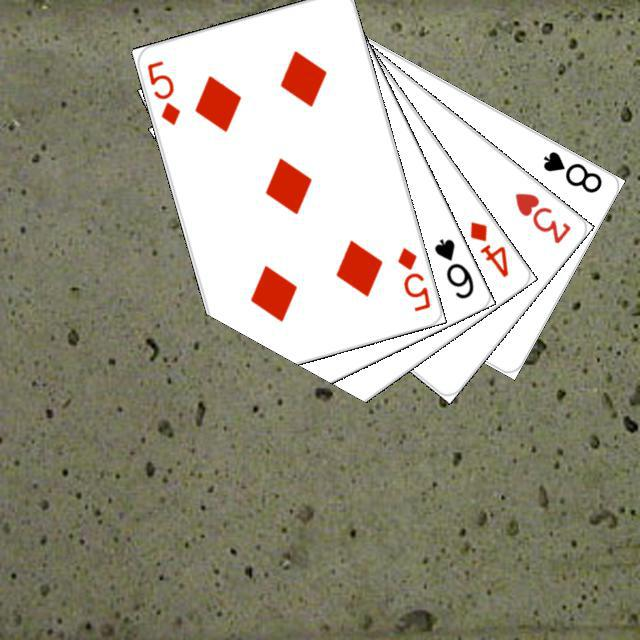3h: (509, 187, 573, 246)
4d: (464, 216, 510, 279)
5d: (142, 55, 182, 127), (392, 242, 432, 313)
6s: (429, 233, 476, 301)
8s: (538, 146, 604, 195)
